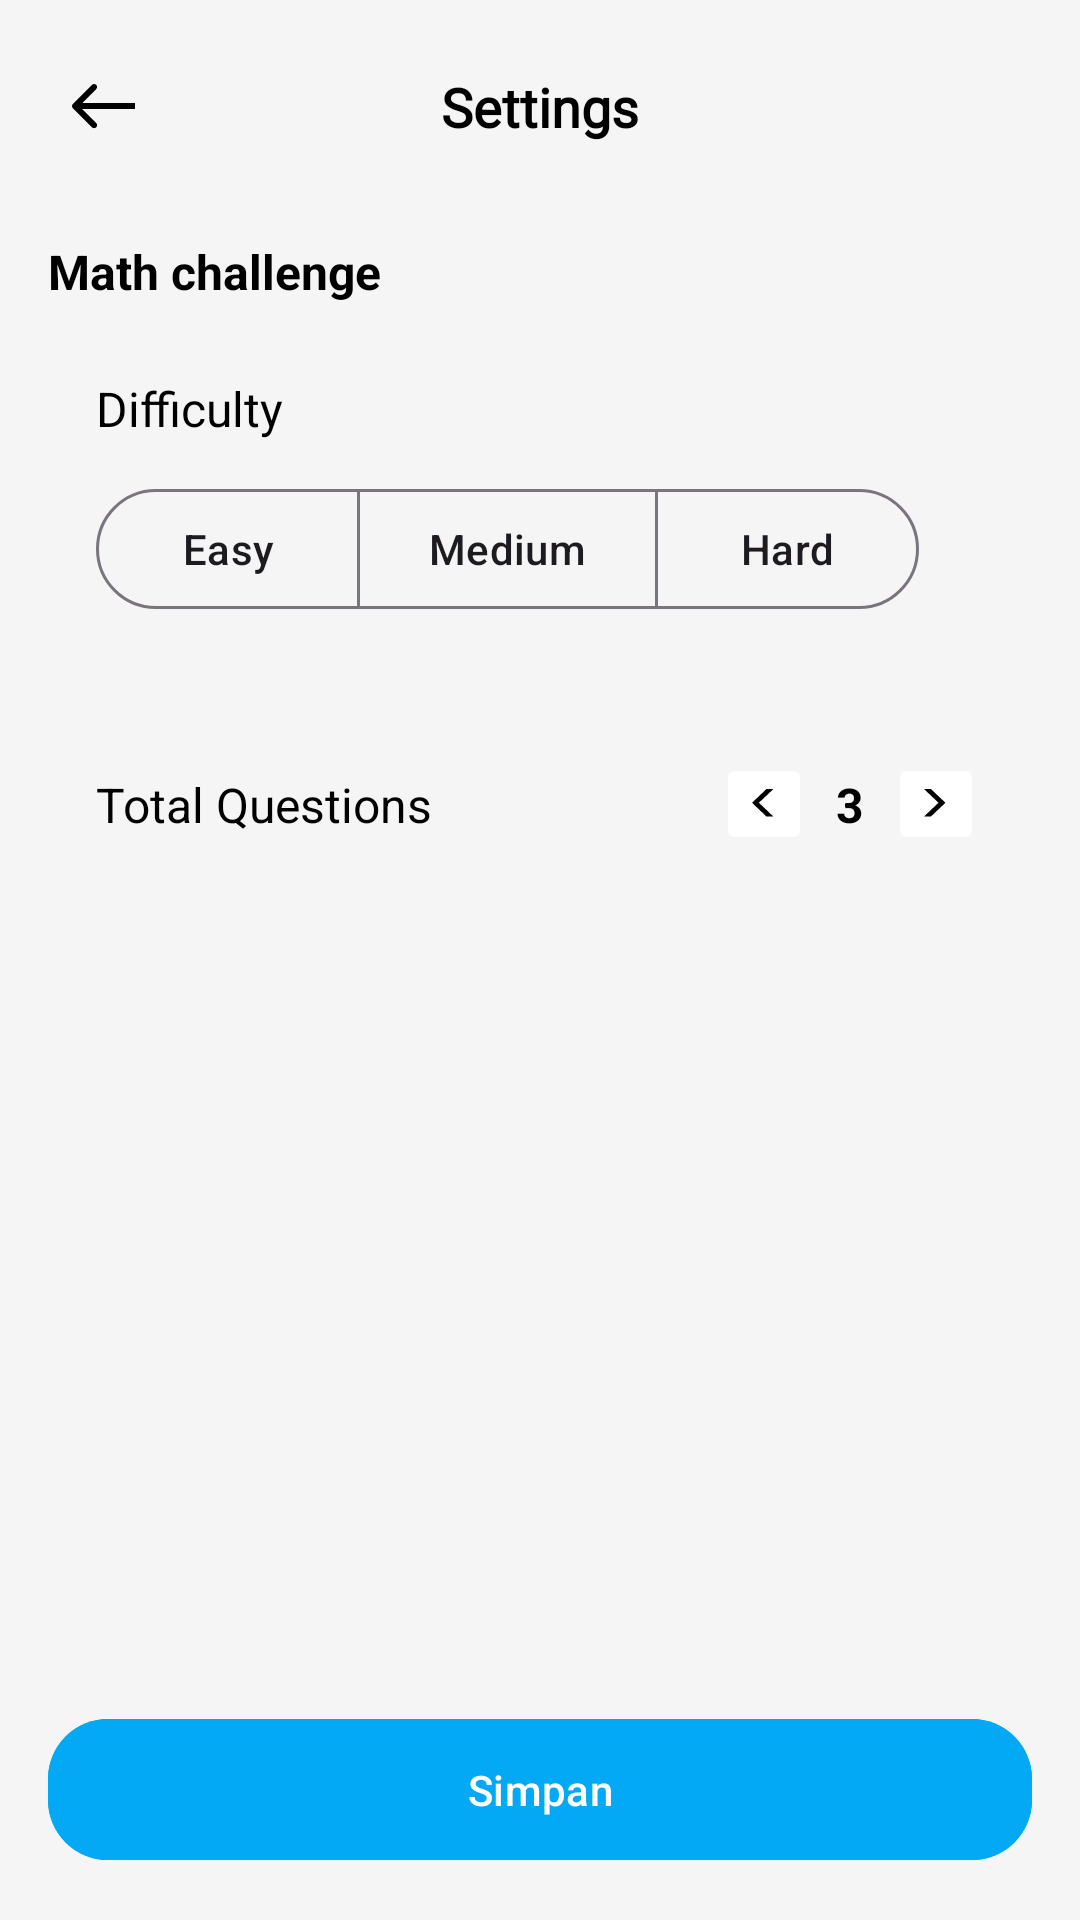

Named icons in this screenshot (1080x1920) and their centers, [x,y]:
Kembali: [103,106]
